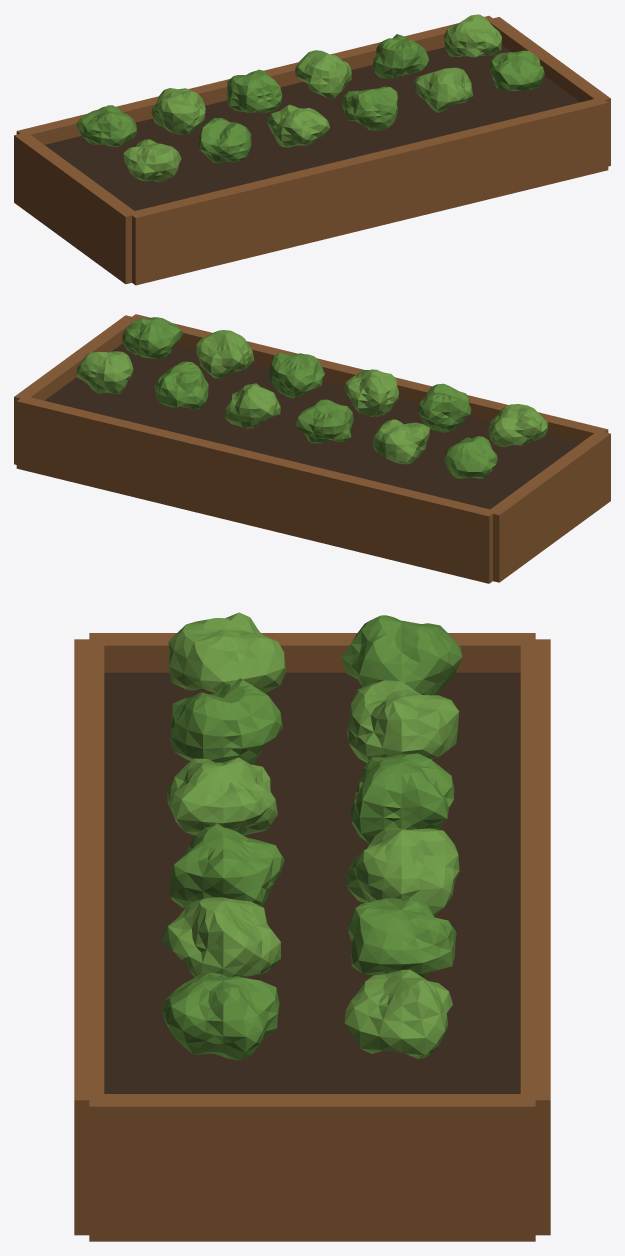
The model's file is bed.glb.
The picture shows the model from 3 angles, top to bottom: view 1: azimuth 30°, elevation 25°; view 2: azimuth 150°, elevation 25°; view 3: azimuth 270°, elevation 25°; orthographic projection. The views are drawn at different scales.
Parts seen in each view (by area): view 1: bx0, soil, by0, bx1, by1, plant11, plant30, plant21, plant20, plant51, plant31, plant10 (+5 smaller); view 2: bx1, soil, by0, bx0, by1, plant40, plant41, plant20, plant30, plant00, plant11, plant21 (+5 smaller); view 3: soil, by1, bx0, bx1, by0, plant50, plant40, plant51, plant31, plant11, plant00, plant10 (+5 smaller).
Part boxes in pixels (box(x1,y1,x2,y2)): bx0: box(130, 99, 608, 285); soil: box(45, 45, 579, 210); by0: box(14, 132, 137, 284); bx1: box(16, 16, 495, 144); by1: box(488, 17, 610, 166); plant11: box(151, 88, 205, 134); plant30: box(341, 86, 397, 130); plant21: box(227, 69, 282, 113); plant20: box(267, 104, 330, 147); plant51: box(444, 14, 501, 57); plant31: box(295, 50, 351, 98); plant10: box(198, 118, 251, 163); bx1: box(16, 397, 496, 583); soil: box(45, 343, 579, 509); by0: box(489, 431, 610, 582); bx0: box(128, 314, 608, 443); by1: box(14, 315, 136, 464); plant40: box(196, 330, 254, 378); plant41: box(154, 361, 208, 409); plant20: box(344, 369, 398, 416); plant30: box(269, 352, 324, 398); plant00: box(488, 404, 547, 446); plant11: box(372, 419, 429, 464); plant21: box(295, 399, 353, 443); soil: box(104, 672, 520, 1093); by1: box(89, 1094, 535, 1241); bx0: box(74, 639, 104, 1235); bx1: box(520, 639, 550, 1235); by0: box(89, 633, 535, 672); plant50: box(162, 972, 279, 1060); plant40: box(161, 897, 280, 978); plant51: box(344, 969, 452, 1058); plant31: box(346, 827, 459, 915); plant11: box(346, 680, 459, 762); plant00: box(168, 612, 286, 693); plant10: box(170, 678, 282, 764).
Size of the model in its own units: 2.26 by 0.4686 by 0.96.
